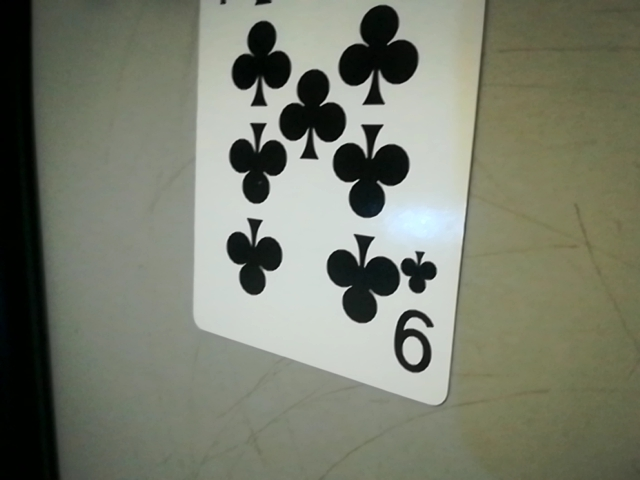mh 9: (388, 250, 449, 384)
